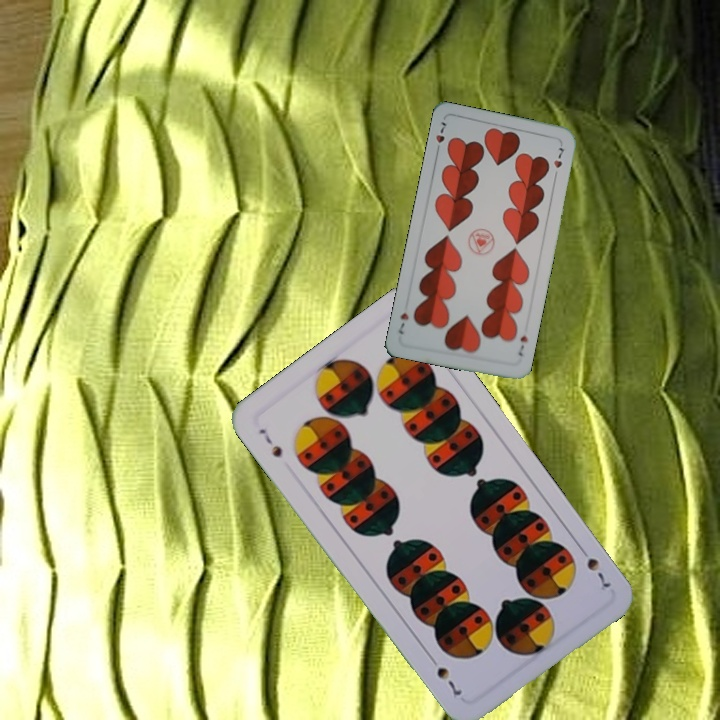H7: (431, 118, 449, 156), (514, 331, 530, 359)
S7: (575, 541, 614, 592), (255, 424, 285, 460)
